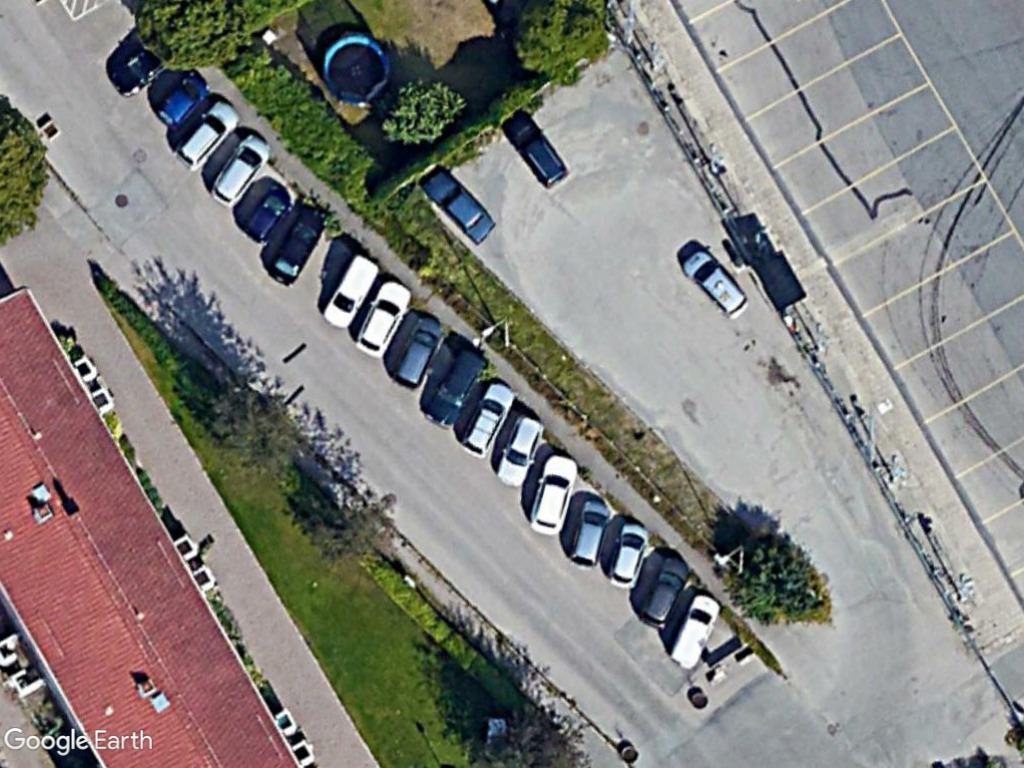car: (424, 169, 498, 249), (262, 200, 327, 290), (209, 129, 277, 211), (679, 246, 752, 322), (504, 111, 573, 190), (455, 378, 516, 463), (175, 98, 245, 172), (353, 276, 415, 359), (491, 412, 549, 492), (638, 551, 696, 631), (528, 450, 581, 537), (388, 310, 446, 389), (565, 493, 614, 572), (153, 65, 212, 129), (605, 519, 652, 592), (242, 183, 295, 246)
van: (421, 343, 489, 433), (320, 248, 381, 332), (665, 589, 723, 674)
